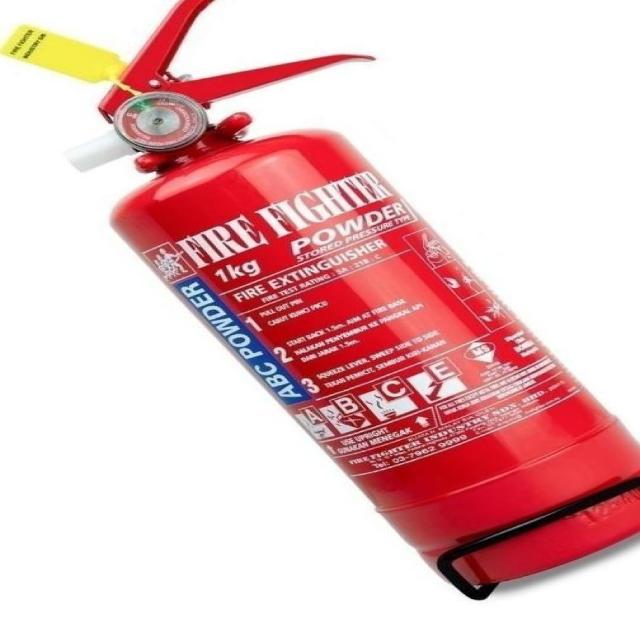fire_extinguisher: (1, 0, 639, 598)
